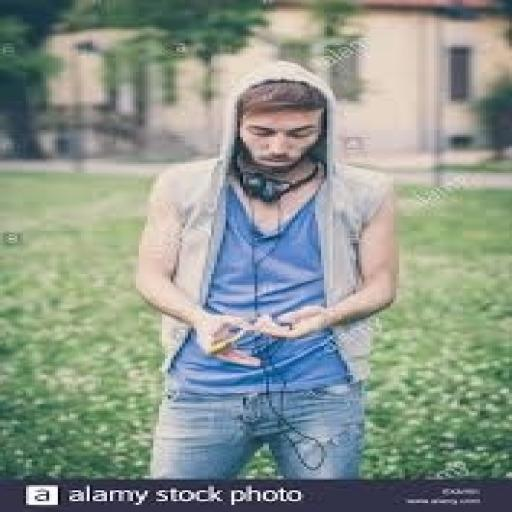listening_to_music: (133, 60, 405, 480)
